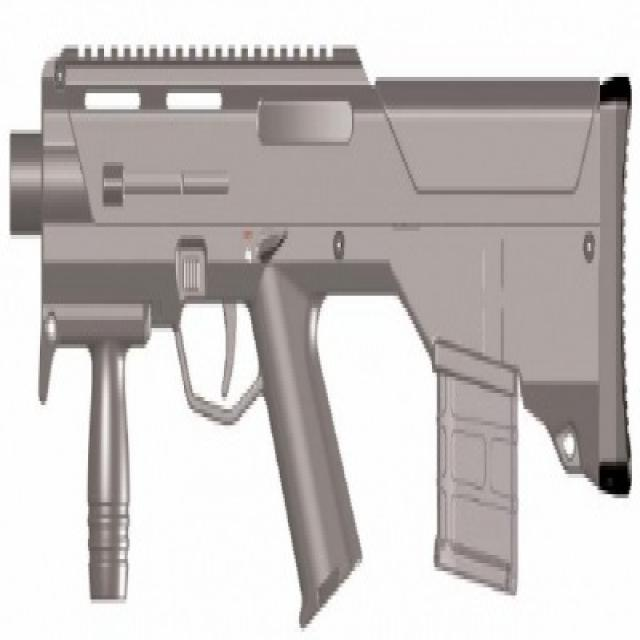rifle: (1, 13, 639, 640)
